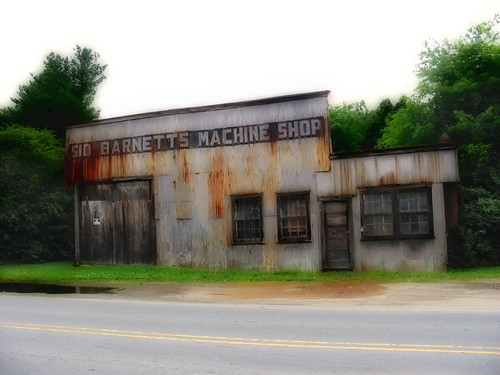building: (66, 113, 463, 280)
sky: (45, 1, 464, 105)
street: (2, 280, 500, 375)
vegetation: (391, 25, 500, 266), (1, 53, 107, 298)
